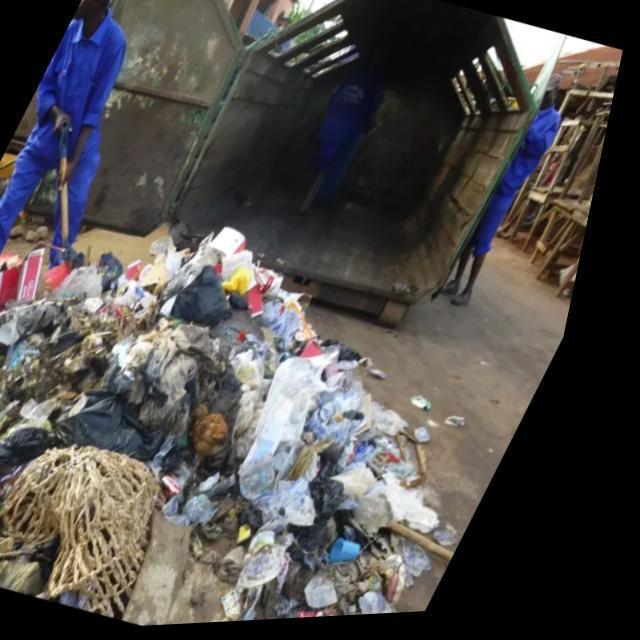Garbage: (0, 231, 478, 629)
